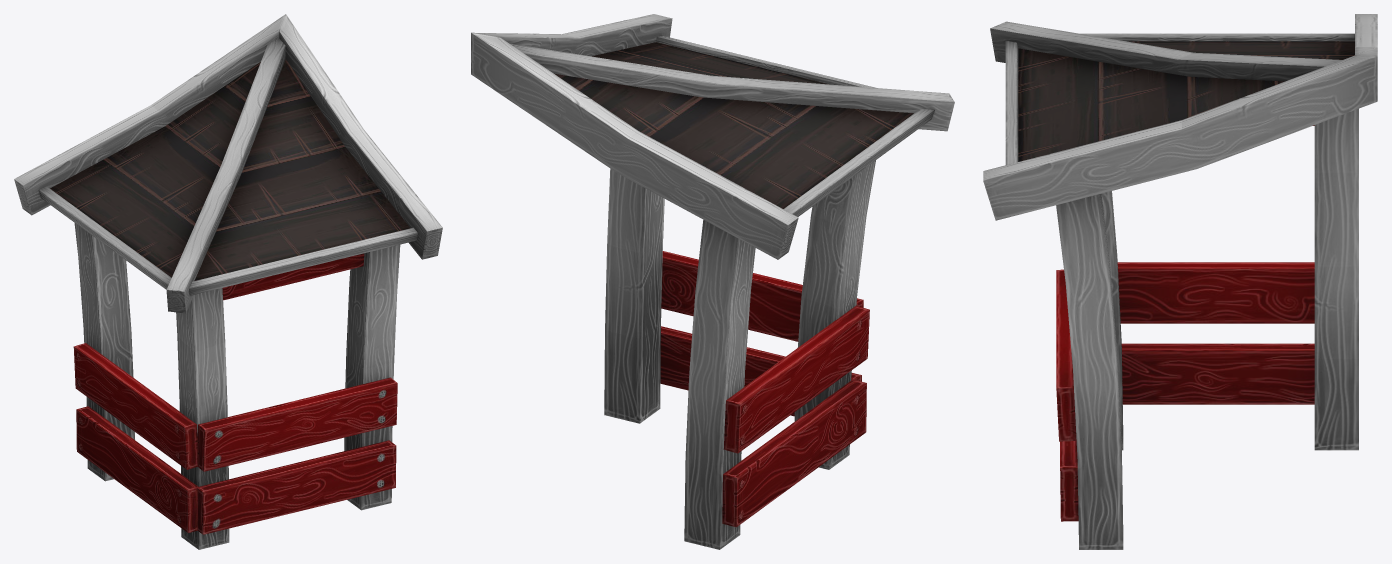
Rendered from Corner_Sep.fbx.
3 views of the same model, side by side, from view 1: azimuth 30°, elevation 25°; view 2: azimuth 150°, elevation 25°; view 3: azimuth 270°, elevation 25° (orthographic). The views are drawn at different scales.
Visible parts, largest first — view 1: Corner_Out_L.003; view 2: Corner_Out_L.003; view 3: Corner_Out_L.003.
Part boxes in pixels (x1=…): Corner_Out_L.003: x1=14, y1=14, x2=442, y2=549; Corner_Out_L.003: x1=471, y1=14, x2=954, y2=549; Corner_Out_L.003: x1=983, y1=14, x2=1377, y2=549.
Size of the model in its own units: 134 by 188 by 134.
